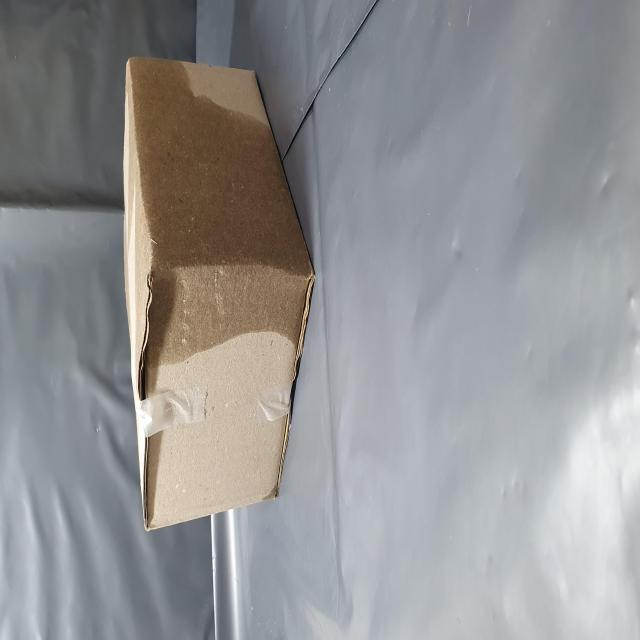wet: (140, 236, 331, 552)
